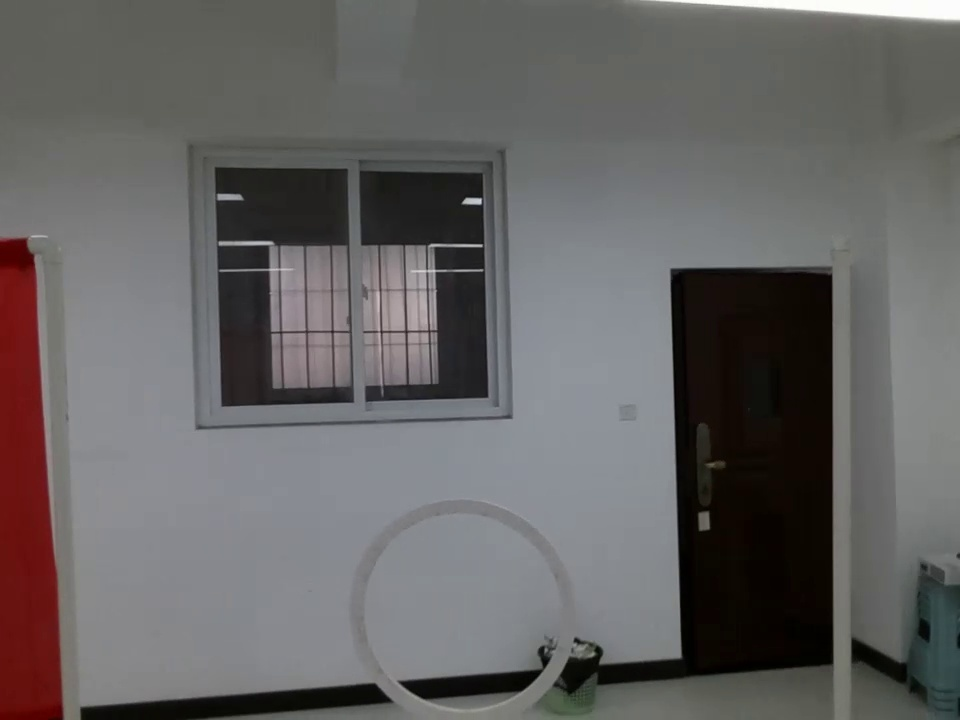gan: (829, 240, 855, 720)
qi: (1, 239, 69, 720)
quan: (342, 496, 579, 720)
